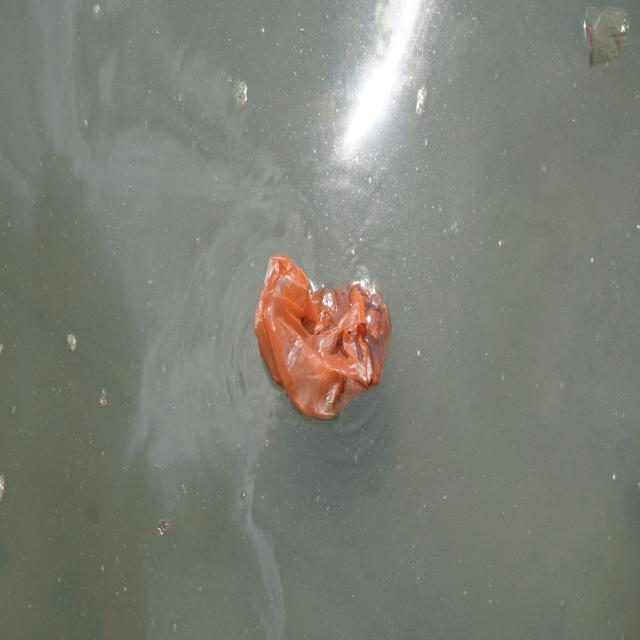Bungkus Minuman: (583, 5, 635, 73)
Kantong Plastik: (254, 251, 393, 425)
